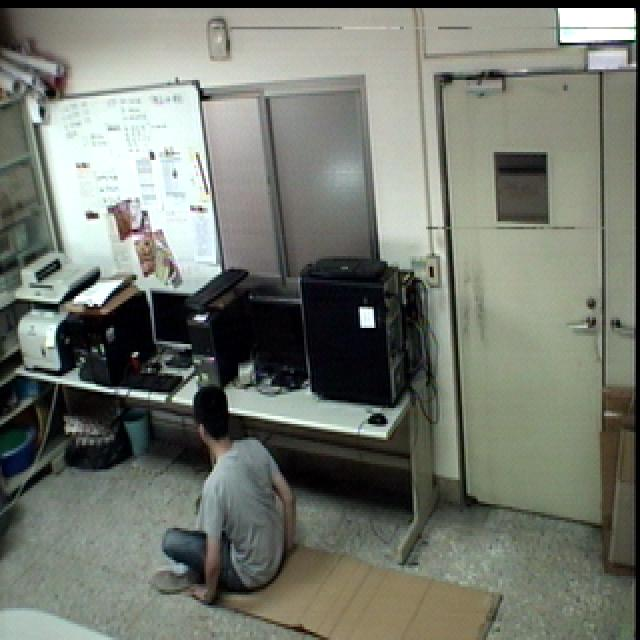sit: (140, 378, 298, 609)
